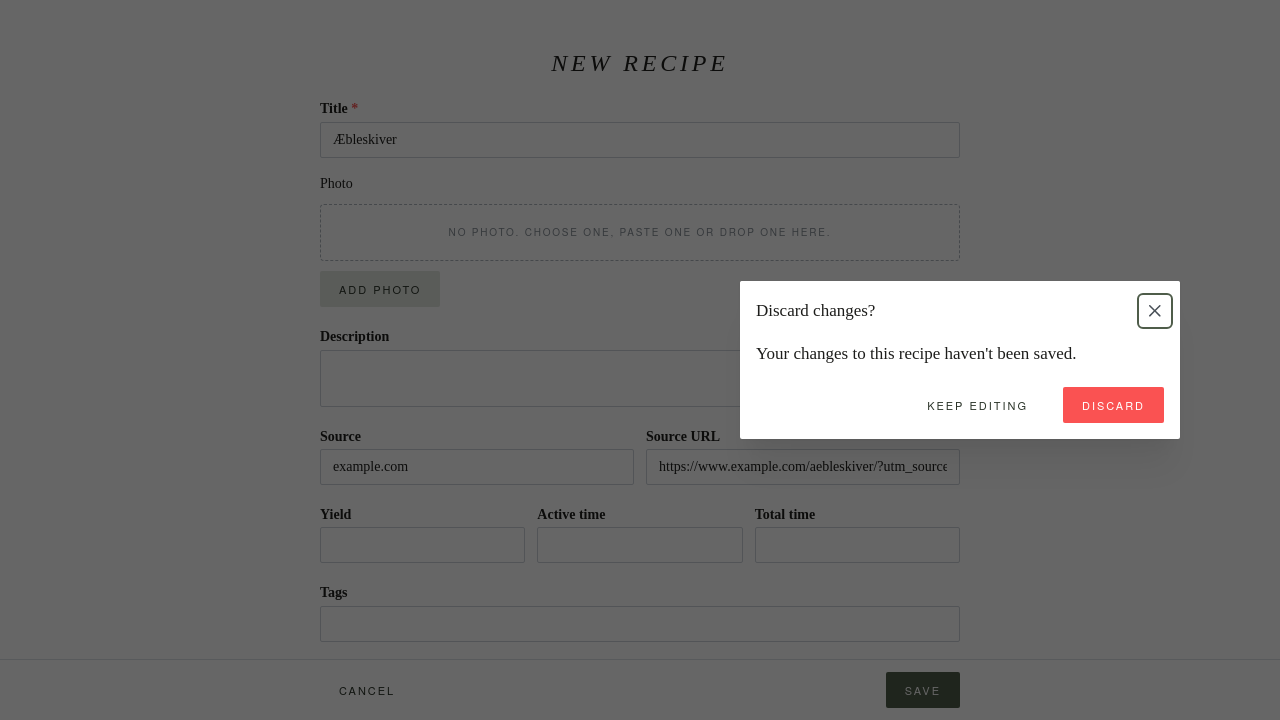
Test: the import route › Back asks to discard, then lands in the cookbook: the import URL is gone from history
expect the heading "New recipe" is shown: met, box [551,50,729,76]
What coordinates should you click on to do the following:
click the button "Discard"
I would click on:
 (1114, 405)
Its box is [1063,387,1164,423].
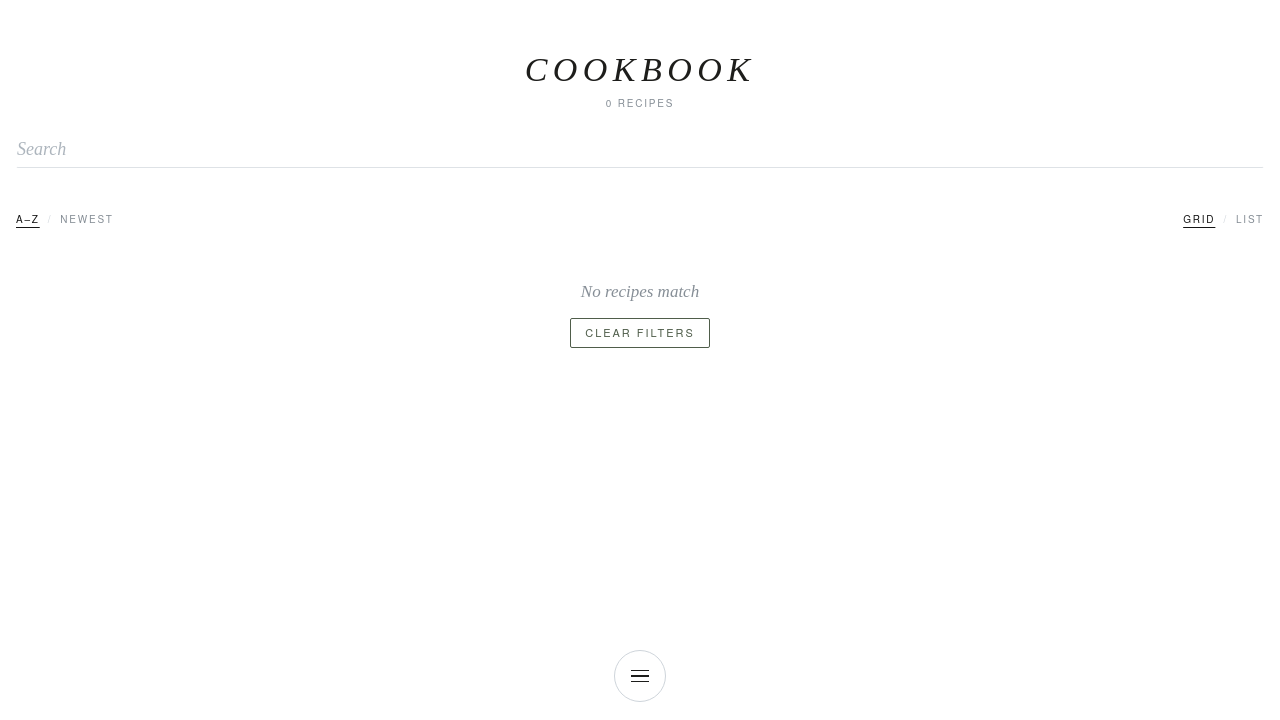
expect the heading "Cookbook" is shown: met, box [525,51,755,88]
